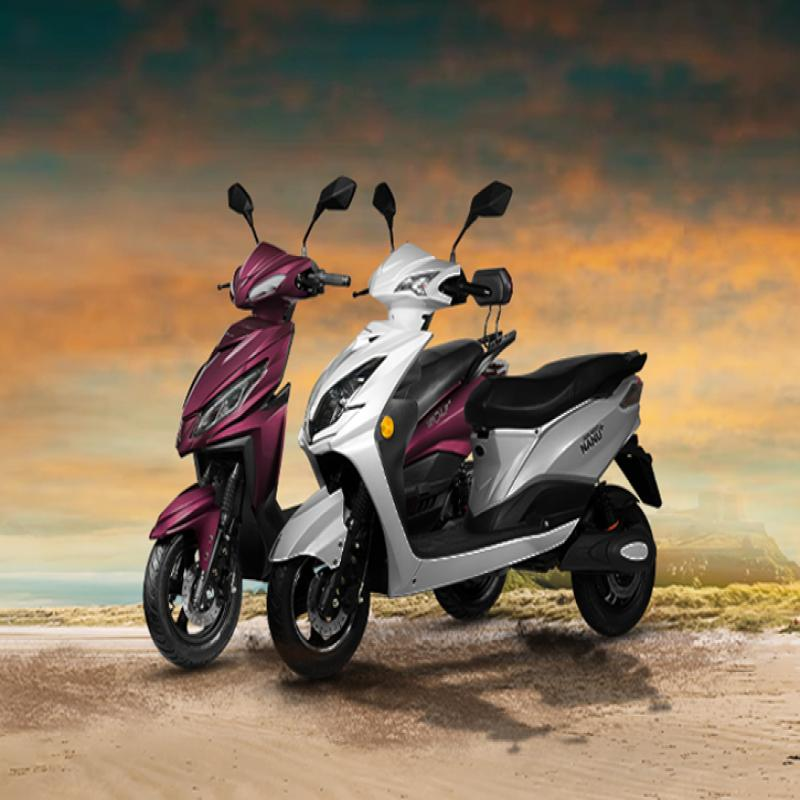bike: (282, 175, 671, 695), (129, 180, 503, 649)
